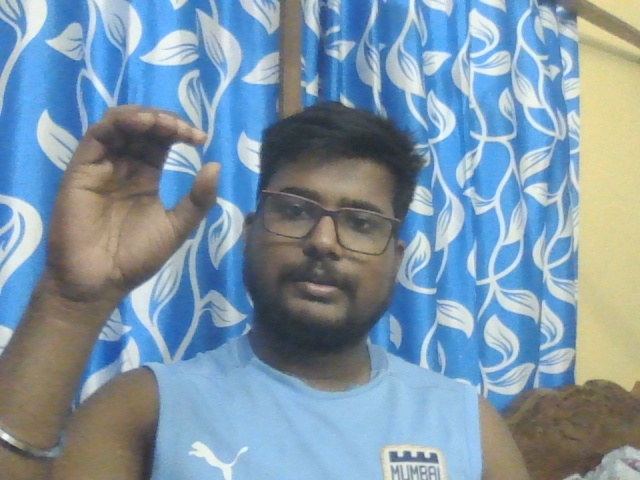C: (47, 104, 218, 300)
